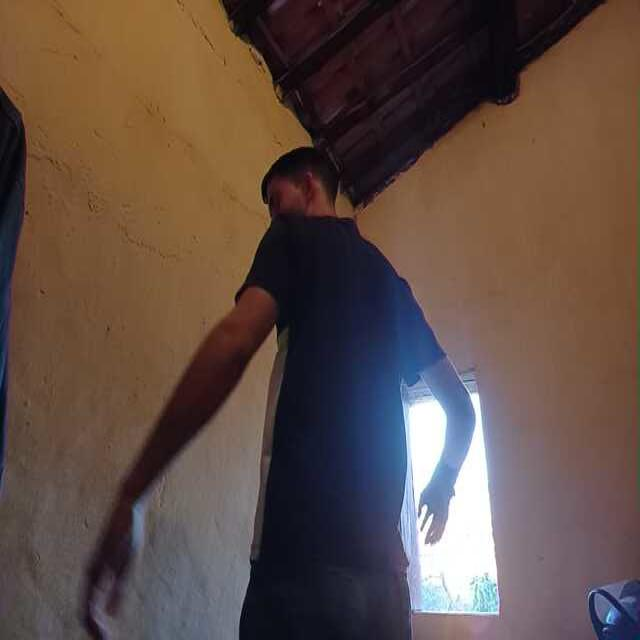capacete: (586, 563, 640, 640)
pessoa: (94, 151, 478, 640)
